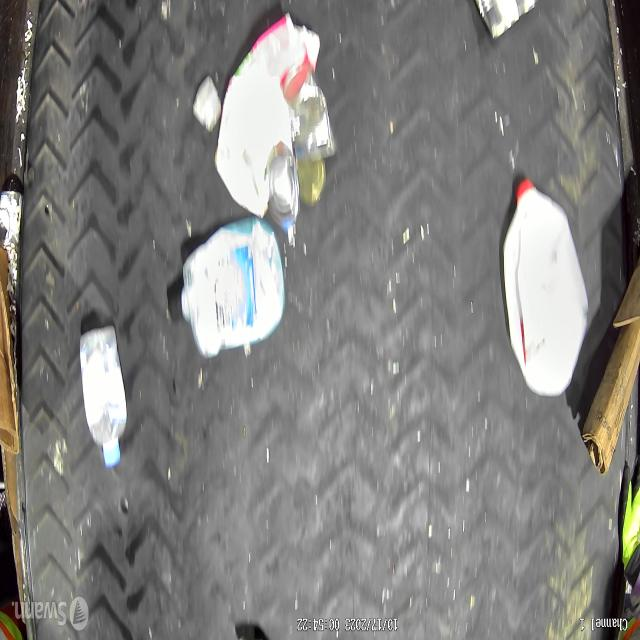can: (283, 64, 334, 160), (0, 189, 23, 250)
milk_jug: (503, 177, 589, 396)
non_white_jug: (213, 13, 320, 216), (181, 220, 285, 357)
plastic_bottle: (79, 324, 128, 468)
